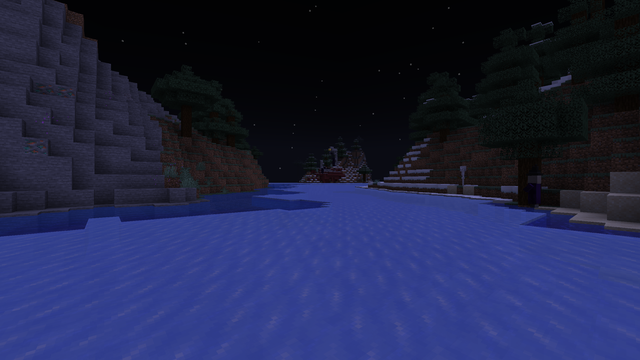sorcieres: (526, 174, 541, 207)
squelettes: (458, 166, 466, 186)
